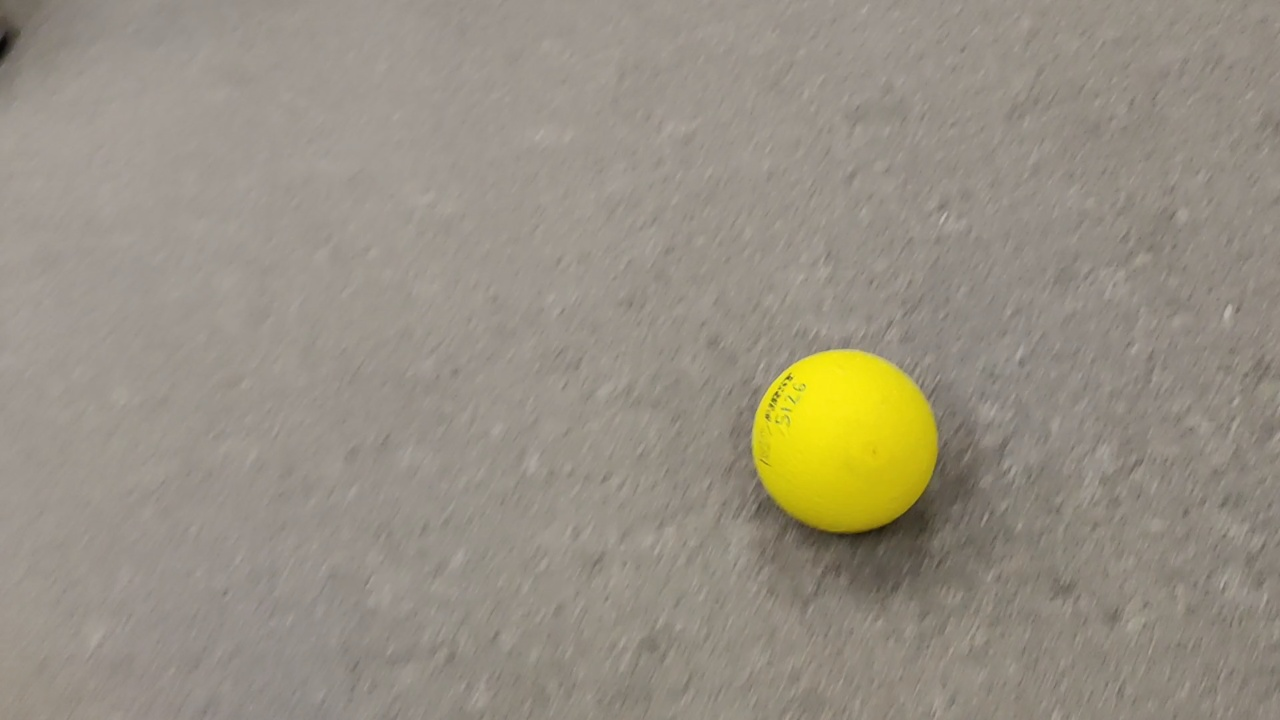Ball: (752, 346, 942, 536)
